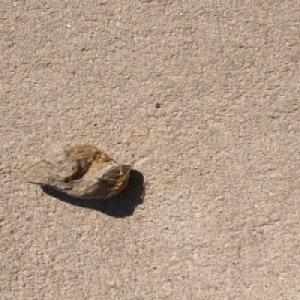Rock: (16, 140, 133, 200)
